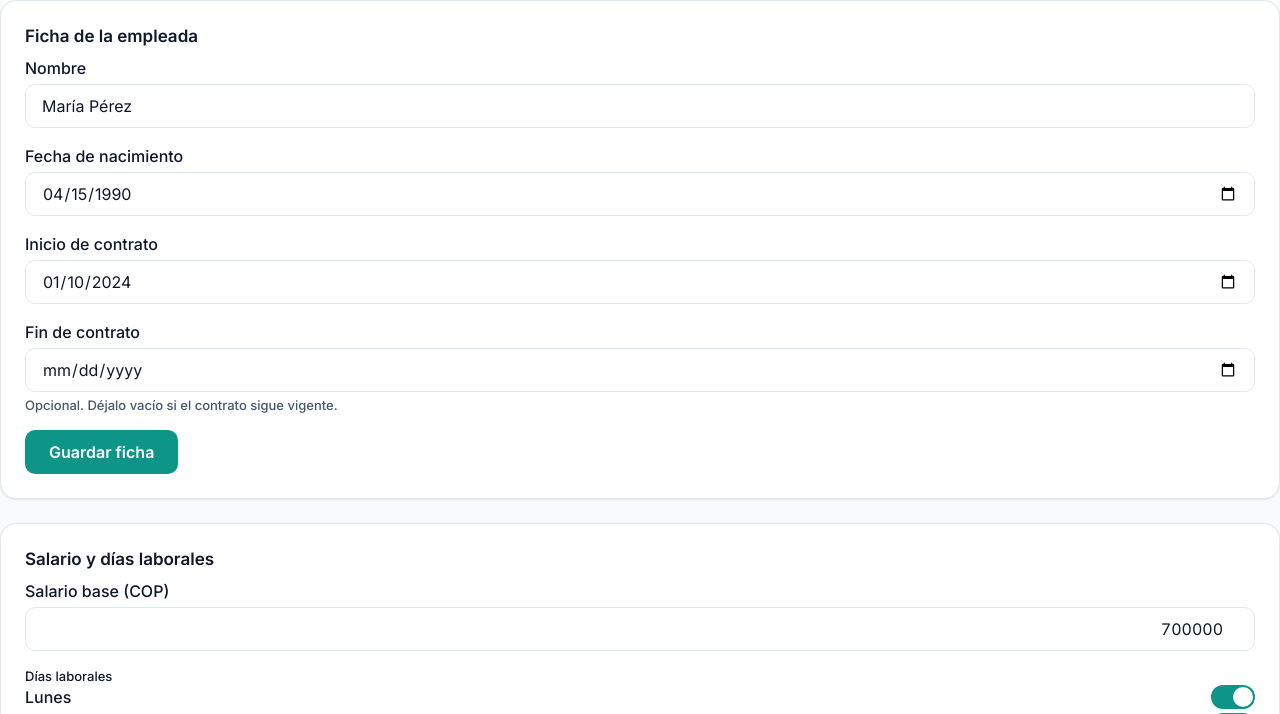
Test: FichaConfiguracionSection (Spec ficha-y-configuracion) › AC-6: durante el guardado el botón queda deshabilitado (aria-busy)
Expected: the field labelled "Nombre" is shown, [25,84,1255,128]
What coordinates should you click on to do the following:
click the button "Guardar ficha"
I would click on:
 (102, 452)
Its box is [25,430,178,474].
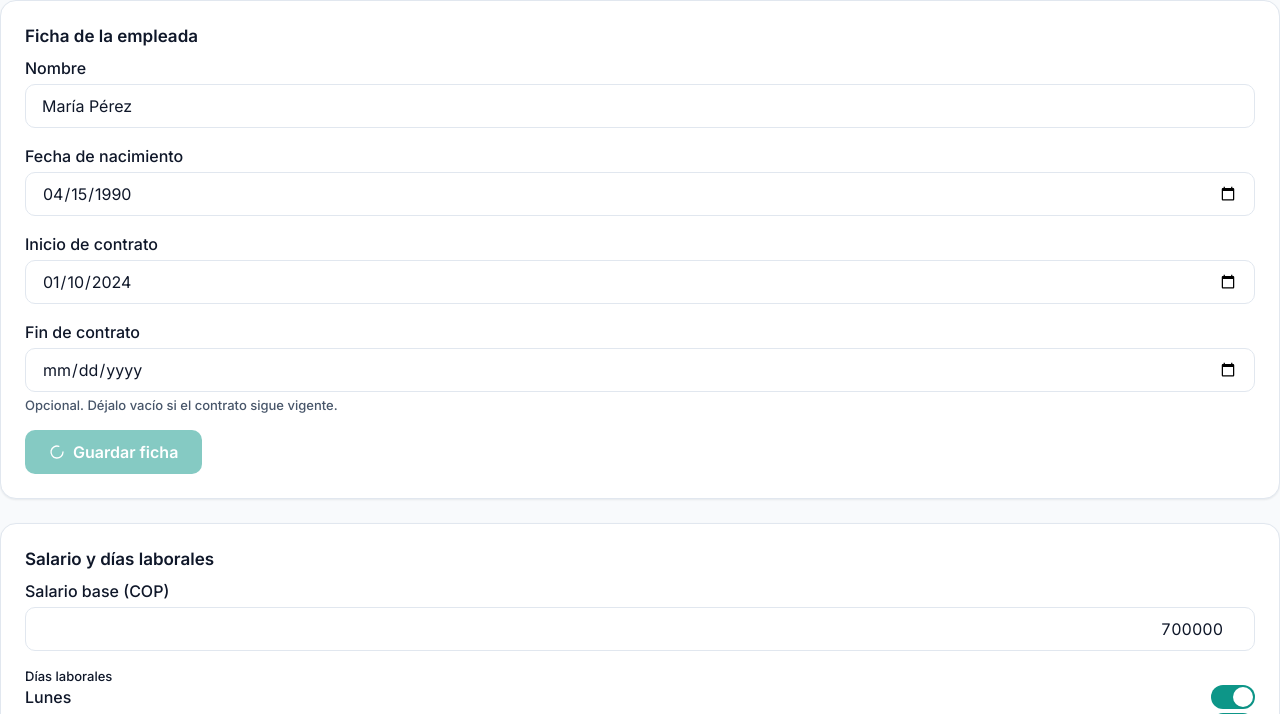
Result: the button "Guardar ficha" is disabled at [25,430,202,474]
